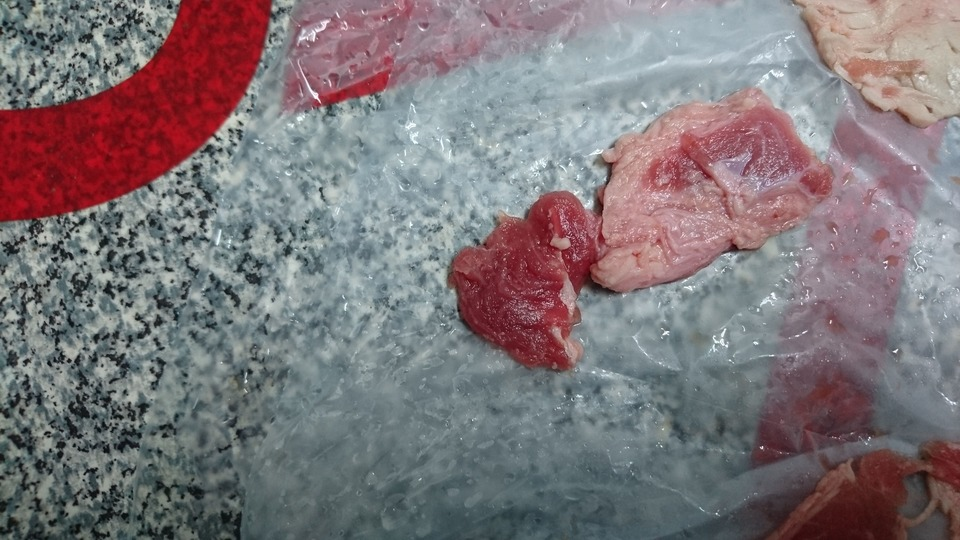restructured meat: (457, 94, 827, 372)
